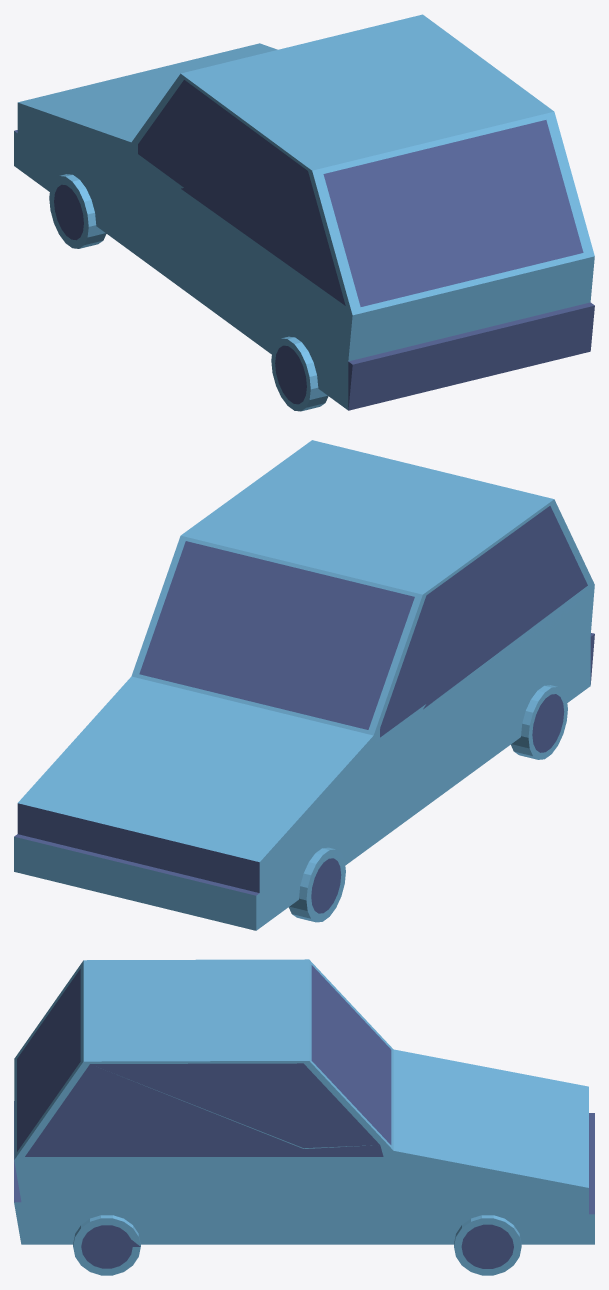
Rendered from car.gltf.
3 views of the same model, one above another, from view 1: azimuth 30°, elevation 25°; view 2: azimuth 150°, elevation 25°; view 3: azimuth 270°, elevation 25° (orthographic). The views are drawn at different scales.
Visible parts, largest first — view 1: CAR_03_3; view 2: CAR_03_3; view 3: CAR_03_3.
Boxes of the visible parts, box(x1,y1,x2,y2) form: CAR_03_3: box(14, 14, 594, 411); CAR_03_3: box(14, 440, 594, 930); CAR_03_3: box(14, 959, 594, 1275).
Size of the model in its own units: 0.6579 by 0.6023 by 1.5.
